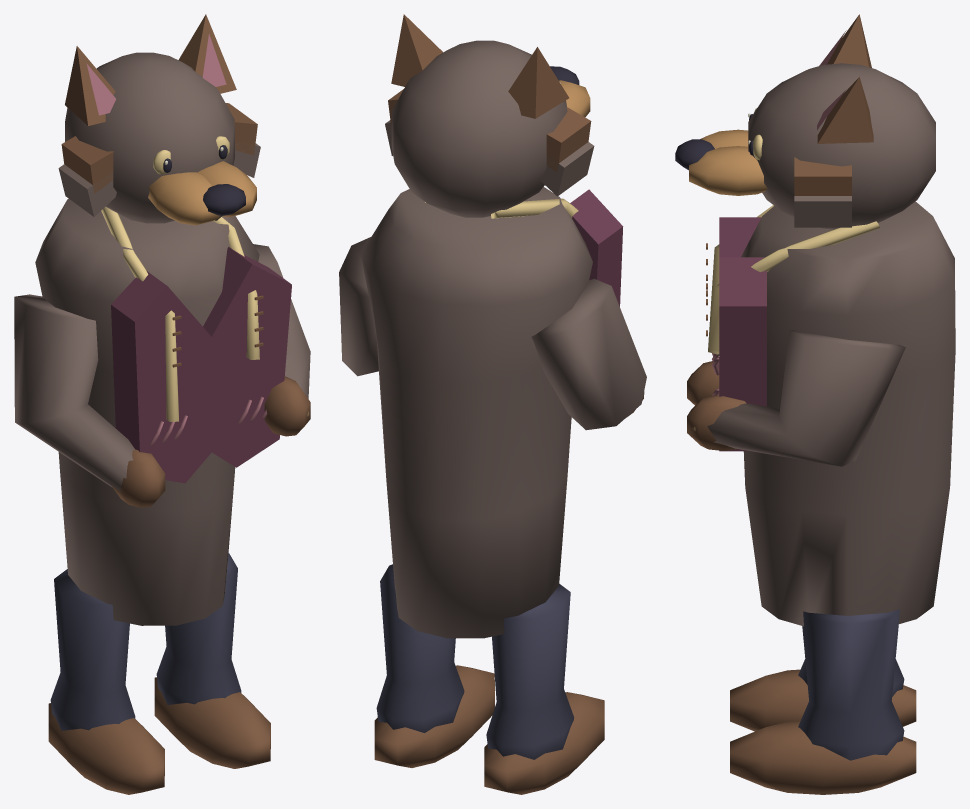
Rendered from vendor_weaver.glb.
3 renders of one model, left to right at view 1: azimuth 30°, elevation 25°; view 2: azimuth 150°, elevation 25°; view 3: azimuth 270°, elevation 25°, orthographic. The views are drawn at different scales.
Visible parts, largest first — view 1: vendor_weaver; view 2: vendor_weaver; view 3: vendor_weaver.
Boxes of the visible parts, x1,y1,x2,y2 form: vendor_weaver: (14, 14, 310, 794); vendor_weaver: (339, 14, 646, 794); vendor_weaver: (675, 14, 955, 794).
Size of the model in its own units: 0.7 by 1.7 by 0.6.
